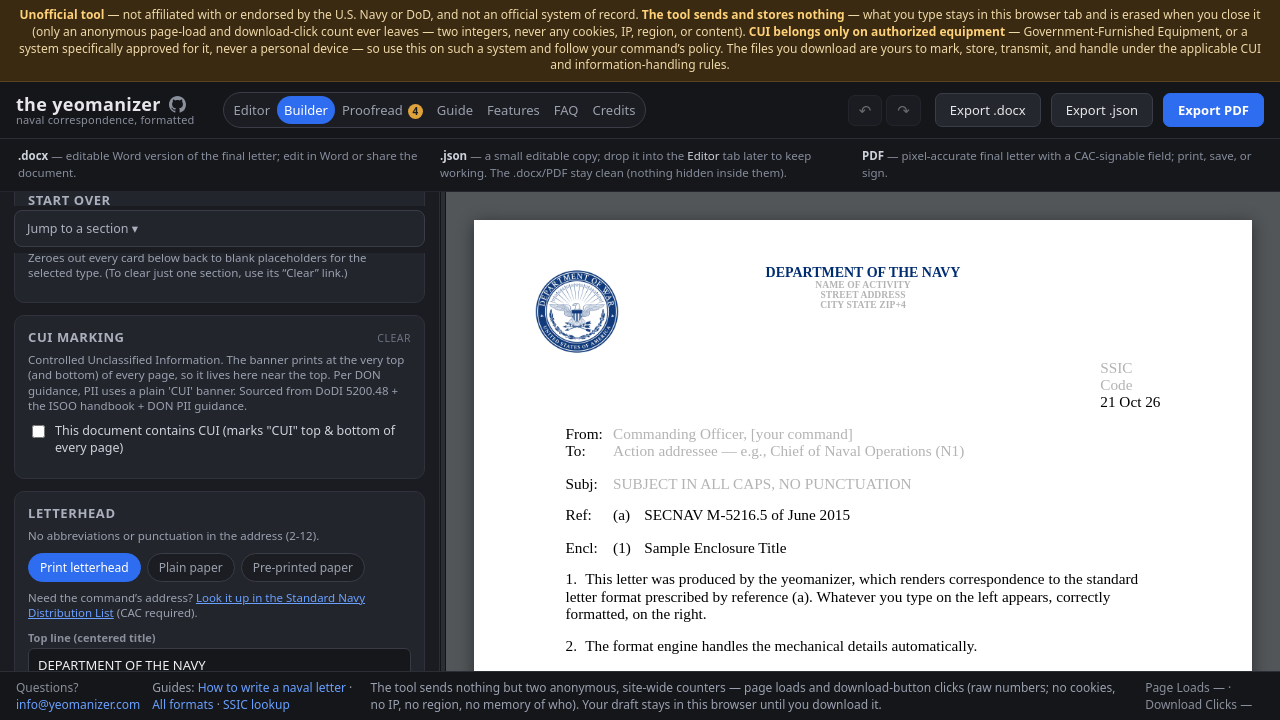
Test: Editor ↔ preview integration › enabling CUI renders the banners + designation block with the ISOO label
The image size is (1280, 720).
(page scrolled)
What coordinates should you click on to do the following:
click the checkbox labelled "contains CUI"
I would click on:
 (38, 431)
Its box is [32, 425, 45, 438].
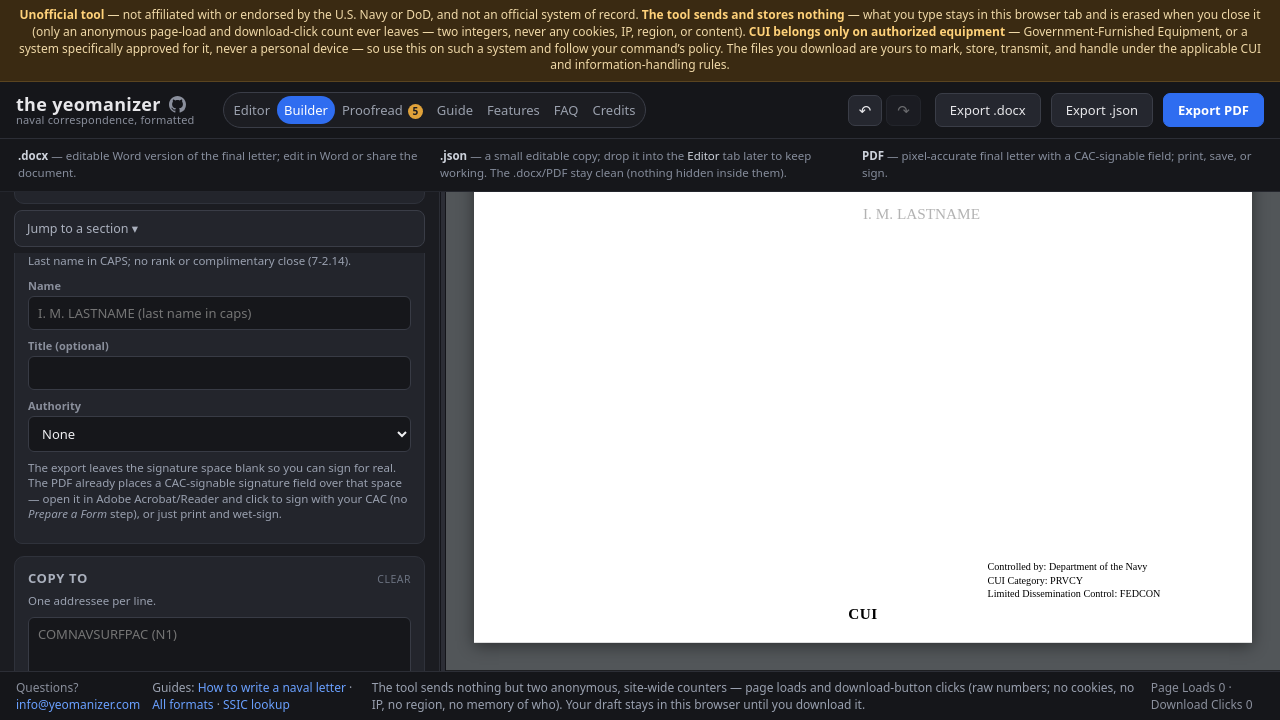
Expected: the text with class "cui-bottom" reads "CUI", [848, 605, 878, 621]
Result: the element with class "cui-designation" shows "Limited Dissemination Control" at [988, 588, 1120, 598]
